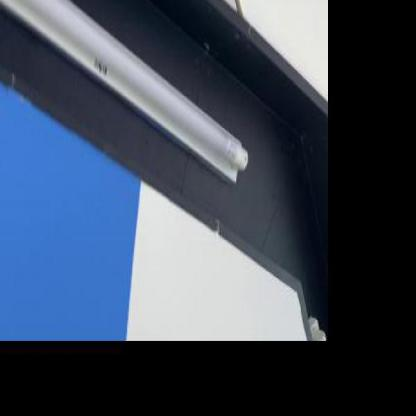light_off: (0, 0, 251, 193), (296, 294, 354, 415)
